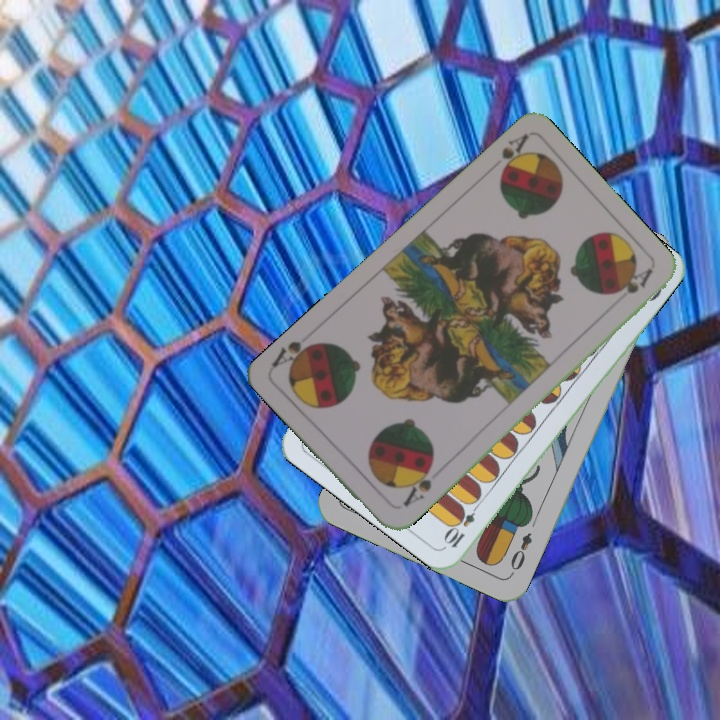E10: (441, 497, 484, 551)
EO: (506, 528, 535, 578)
SA: (398, 460, 436, 510), (495, 130, 532, 181)
